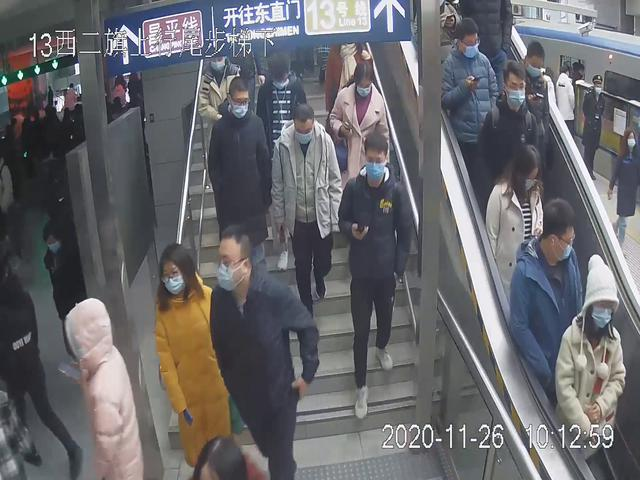person: (206, 221, 323, 480), (338, 132, 417, 419), (153, 240, 233, 474), (508, 196, 586, 423), (553, 251, 627, 475), (268, 99, 343, 320), (206, 74, 276, 294), (439, 17, 500, 185), (324, 59, 390, 209)
